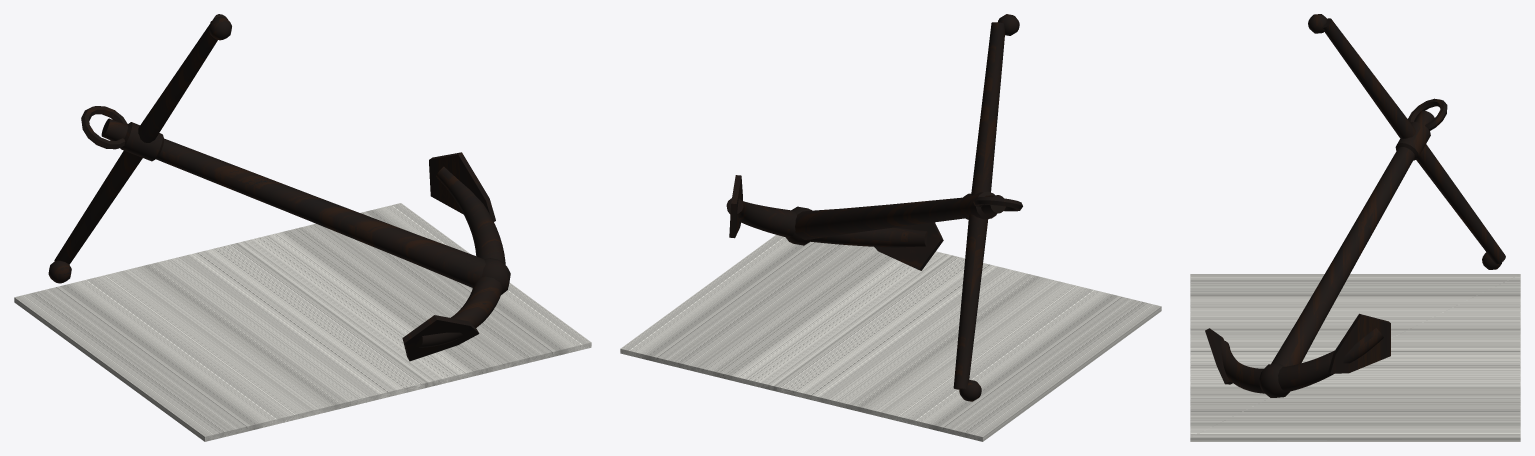
The model's file is SM_Morin_AncoraMonumento.fbx.
The picture shows the model from 3 angles, left to right: view 1: azimuth 30°, elevation 25°; view 2: azimuth 150°, elevation 25°; view 3: azimuth 270°, elevation 25°; orthographic projection. The views are drawn at different scales.
Visible parts, largest first — view 1: SM_Morin_AncoraMonumento; view 2: SM_Morin_AncoraMonumento; view 3: SM_Morin_AncoraMonumento.
Part boxes in pixels (x1=…): SM_Morin_AncoraMonumento: x1=14, y1=14, x2=591, y2=441; SM_Morin_AncoraMonumento: x1=620, y1=14, x2=1161, y2=441; SM_Morin_AncoraMonumento: x1=1190, y1=14, x2=1520, y2=441.
Size of what is drawn, in the model's own units: 316 by 270 by 272.
2 materials, 2 textured.
